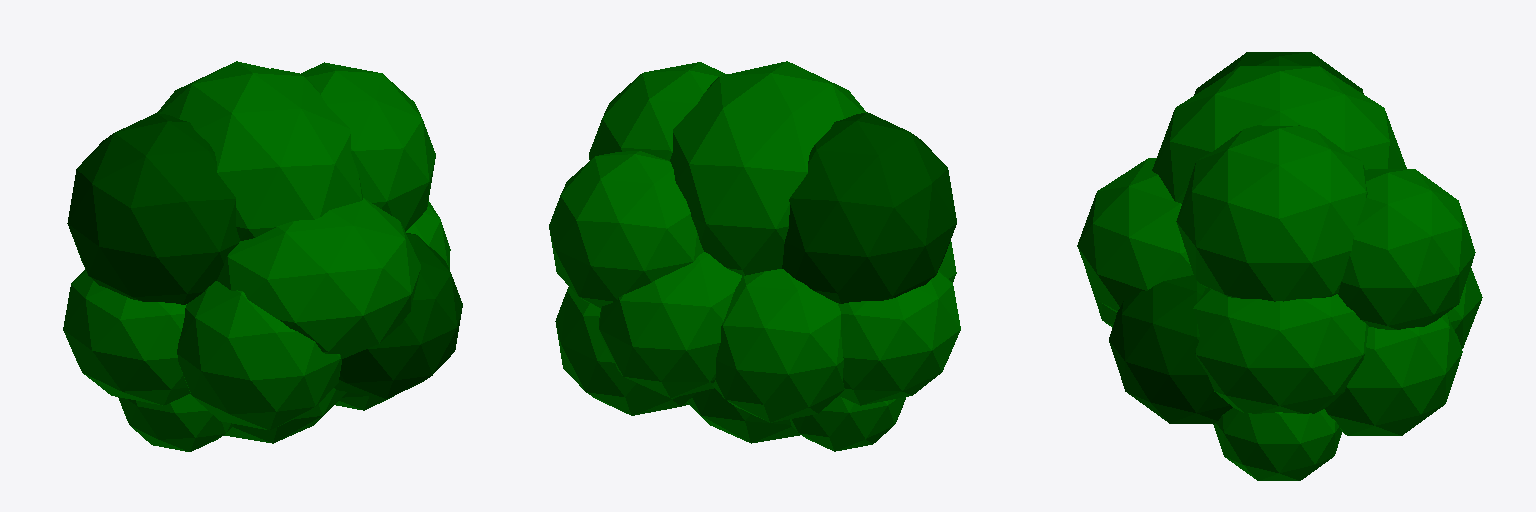
The model's file is round_1.obj.
3 views of the same model, side by side, from view 1: azimuth 30°, elevation 25°; view 2: azimuth 150°, elevation 25°; view 3: azimuth 270°, elevation 25° (orthographic).
Parts seen in each view (by area): view 1: Icosphere.006; view 2: Icosphere.006; view 3: Icosphere.006.
Part boxes in pixels (left/top/right/bottom): Icosphere.006: left=63, top=61, right=462, bottom=451; Icosphere.006: left=549, top=61, right=960, bottom=451; Icosphere.006: left=1077, top=52, right=1482, bottom=480.
Bounding box in the file's own units: 0.3072 × 0.3017 × 0.3021.